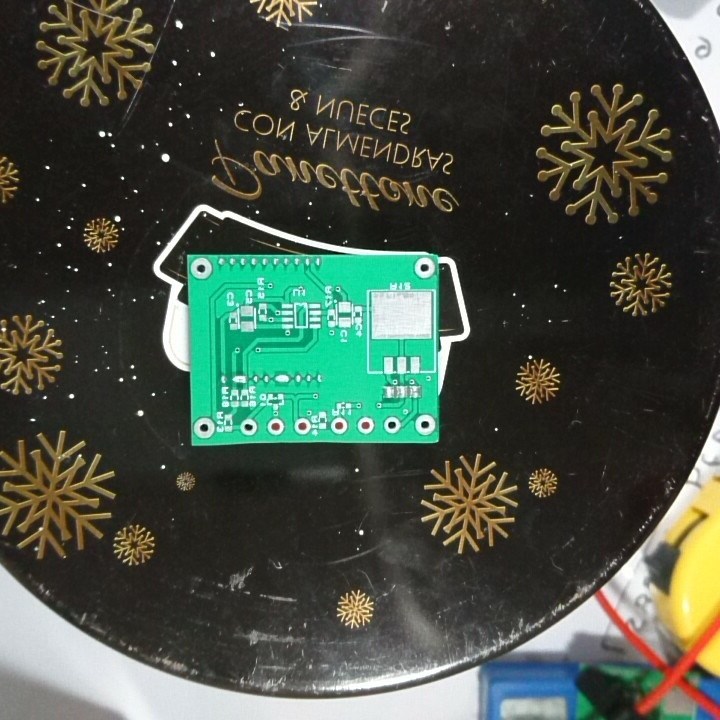F: (189, 256, 215, 282), (192, 414, 216, 440), (413, 255, 436, 279), (414, 412, 436, 437), (328, 414, 349, 436), (353, 414, 376, 434), (265, 416, 286, 436), (239, 416, 258, 437), (382, 414, 401, 435), (293, 416, 312, 435)
P: (272, 371, 292, 387), (230, 372, 248, 388)
